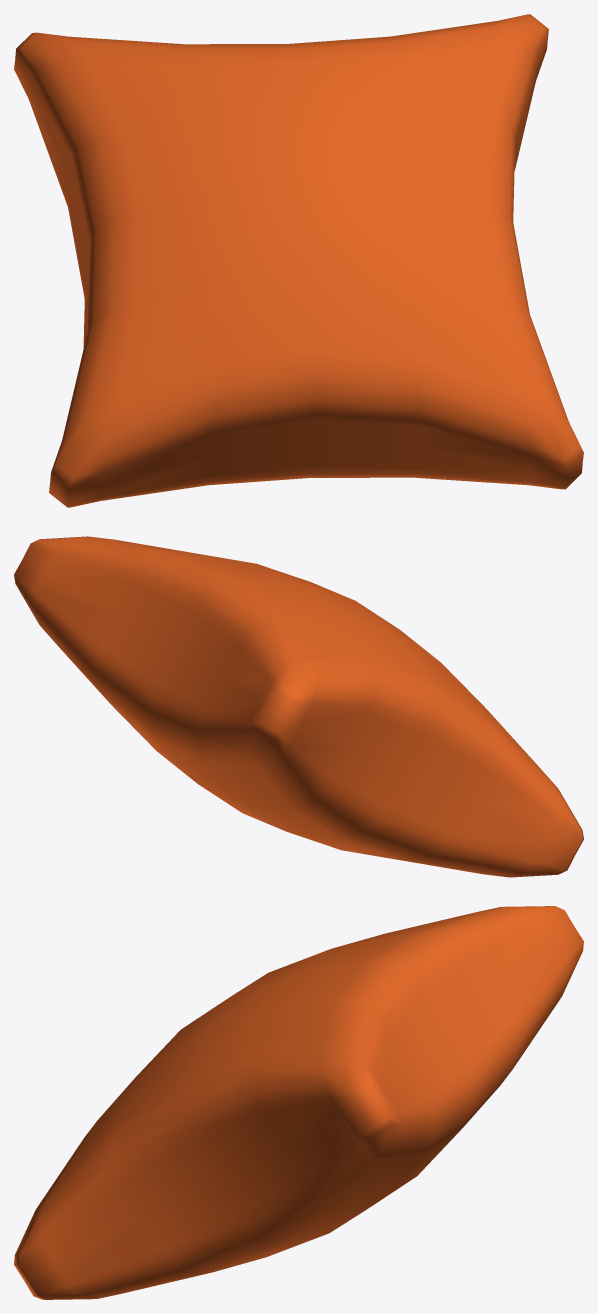
The model's file is Cushions.fbx.
The picture shows the model from 3 angles, top to bottom: view 1: azimuth 30°, elevation 25°; view 2: azimuth 150°, elevation 25°; view 3: azimuth 270°, elevation 25°; orthographic projection. The views are drawn at different scales.
Parts seen in each view (by area): view 1: Cushions; view 2: Cushions; view 3: Cushions.
Boxes of the visible parts, x1=… form: Cushions: x1=14, y1=14, x2=583, y2=507; Cushions: x1=14, y1=536, x2=583, y2=877; Cushions: x1=14, y1=906, x2=583, y2=1299.
Size of the model in its own units: 48.9 by 27.55 by 45.85.
Materials: 1 (1 with a texture image).
